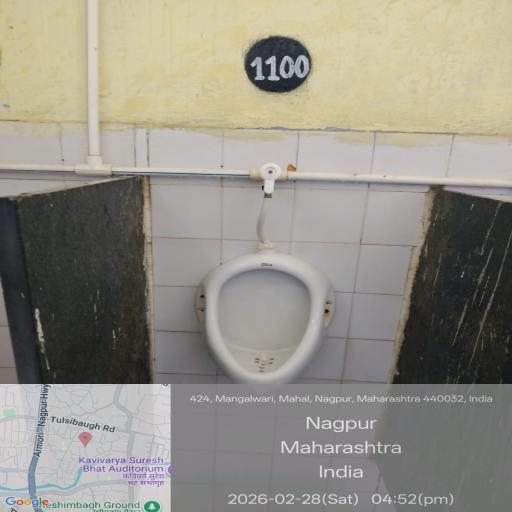clean_floor: (124, 349, 465, 512)
clean_urinal: (186, 238, 360, 399)
